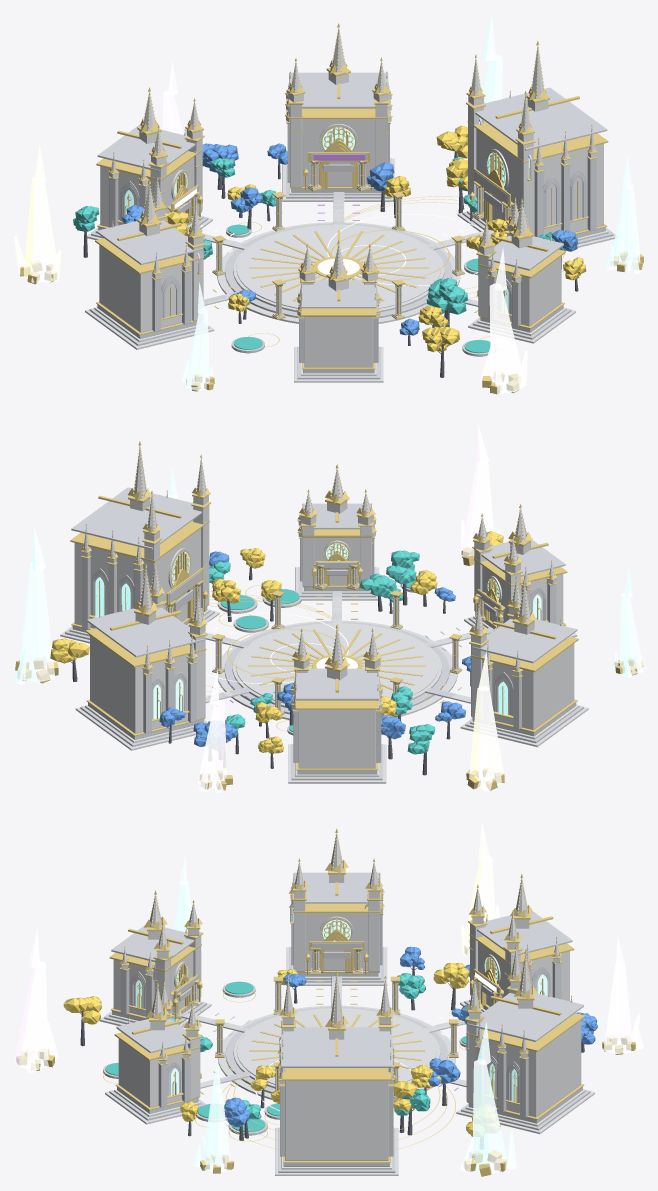
The model's file is lobby_v6.fbx.
3 renders of one model, top to bottom at view 1: azimuth 30°, elevation 25°; view 2: azimuth 150°, elevation 25°; view 3: azimuth 270°, elevation 25°, orthographic. The views are drawn at different scales.
Parts seen in each view (by area): view 1: HULLLIGHT__Hub_Piso, HULLLIGHT__P_REFINARIA_Nave, HULLLIGHT__P_MERCADO_Nave, HULLLIGHT__P_MOCHILAS_Nave, HULLLIGHT__P_EXPEDICOES_Nave, CRYSTALVIO__Cristal4_C, CRYSTALGOLD__Cristal2_C, HULLLIGHT__P_CORREIO_Nave, HULLMID__P_REFINARIA_Agua.001, HULLMID__P_REFINARIA_Agua, HULLLIGHT__P_UPGRADES_Nave, HULLMID__Hub_Degrau.001 (+38 smaller); view 2: HULLLIGHT__Hub_Piso, HULLLIGHT__P_UPGRADES_Nave, HULLLIGHT__P_EXPEDICOES_Nave, HULLLIGHT__P_MERCADO_Nave, HULLLIGHT__P_REFINARIA_Nave, CRYSTALBLUE__Cristal0_C, CRYSTALGOLD__Cristal2_C, HULLMID__P_REFINARIA_Agua, HULLMID__P_EXPEDICOES_Agua, CRYSTALVIO__Cristal4_C, HULLMID__P_REFINARIA_Agua.001, CRYSTALVIO__Cristal1_C (+36 smaller); view 3: HULLLIGHT__P_REFINARIA_Nave, HULLLIGHT__Hub_Piso, HULLLIGHT__P_EXPEDICOES_Nave, CRYSTALBLUE__Cristal0_C, CRYSTALVIO__Cristal4_C, HULLLIGHT__P_CORREIO_Nave, HULLMID__P_REFINARIA_Agua, HULLMID__P_REFINARIA_Agua.001, HULLLIGHT__P_MERCADO_Nave, CRYSTALVIO__Cristal1_C, HULLMID__P_EXPEDICOES_Agua.001, CRYSTALBLUE__Cristal5_C (+39 smaller).
Boxes of the visible parts, x1=… form: HULLLIGHT__Hub_Piso: x1=236, y1=225, x2=440, y2=308; HULLLIGHT__P_REFINARIA_Nave: x1=476, y1=129, x2=603, y2=235; HULLLIGHT__P_MERCADO_Nave: x1=99, y1=245, x2=192, y2=332; HULLLIGHT__P_MOCHILAS_Nave: x1=304, y1=316, x2=373, y2=367; HULLLIGHT__P_EXPEDICOES_Nave: x1=302, y1=119, x2=375, y2=186; CRYSTALVIO__Cristal4_C: x1=489, y1=283, x2=526, y2=392; CRYSTALGOLD__Cristal2_C: x1=23, y1=177, x2=56, y2=282; HULLLIGHT__P_CORREIO_Nave: x1=497, y1=256, x2=561, y2=326; HULLMID__P_REFINARIA_Agua.001: x1=496, y1=108, x2=607, y2=150; HULLMID__P_REFINARIA_Agua: x1=475, y1=87, x2=578, y2=130; HULLLIGHT__P_UPGRADES_Nave: x1=100, y1=157, x2=194, y2=226; HULLMID__Hub_Degrau.001: x1=225, y1=223, x2=452, y2=318; HULLLIGHT__Hub_Piso: x1=236, y1=623, x2=438, y2=703; HULLLIGHT__P_UPGRADES_Nave: x1=298, y1=709, x2=375, y2=768; HULLLIGHT__P_EXPEDICOES_Nave: x1=90, y1=635, x2=188, y2=733; HULLLIGHT__P_MERCADO_Nave: x1=482, y1=643, x2=574, y2=729; HULLLIGHT__P_REFINARIA_Nave: x1=74, y1=528, x2=200, y2=628; CRYSTALBLUE__Cristal0_C: x1=19, y1=562, x2=55, y2=682; CRYSTALGOLD__Cristal2_C: x1=469, y1=686, x2=504, y2=787; HULLMID__P_REFINARIA_Agua: x1=71, y1=507, x2=180, y2=549; HULLMID__P_EXPEDICOES_Agua: x1=110, y1=621, x2=204, y2=657; CRYSTALVIO__Cristal4_C: x1=460, y1=461, x2=493, y2=556; HULLMID__P_REFINARIA_Agua.001: x1=100, y1=487, x2=201, y2=529; CRYSTALVIO__Cristal1_C: x1=197, y1=700, x2=227, y2=788; HULLLIGHT__P_REFINARIA_Nave: x1=285, y1=1080, x2=388, y2=1160; HULLLIGHT__Hub_Piso: x1=236, y1=1008, x2=436, y2=1084; HULLLIGHT__P_EXPEDICOES_Nave: x1=487, y1=1020, x2=581, y2=1117; CRYSTALBLUE__Cristal0_C: x1=472, y1=1059, x2=508, y2=1173; CRYSTALVIO__Cristal4_C: x1=14, y1=961, x2=48, y2=1069; HULLLIGHT__P_CORREIO_Nave: x1=118, y1=1039, x2=182, y2=1107; HULLMID__P_REFINARIA_Agua: x1=335, y1=1027, x2=392, y2=1067; HULLMID__P_REFINARIA_Agua.001: x1=281, y1=1027, x2=338, y2=1067; HULLLIGHT__P_MERCADO_Nave: x1=305, y1=913, x2=368, y2=970; CRYSTALVIO__Cristal1_C: x1=603, y1=963, x2=632, y2=1053; HULLMID__P_EXPEDICOES_Agua.001: x1=467, y1=1005, x2=560, y2=1041; CRYSTALBLUE__Cristal5_C: x1=202, y1=1088, x2=230, y2=1171.
Size of the model in its own units: 246 by 90.25 by 280.
